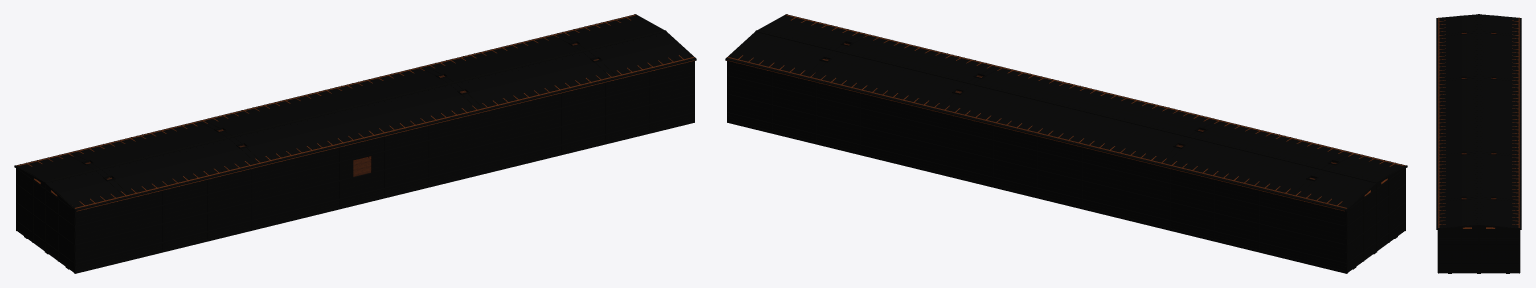
Rendered from ark_base_structure_kit.glb.
The picture shows the model from 3 angles, left to right: view 1: azimuth 30°, elevation 25°; view 2: azimuth 150°, elevation 25°; view 3: azimuth 270°, elevation 25°; orthographic projection. The views are drawn at different scales.
Visible parts, largest first — view 1: ark_hull_wall_bb_LOD0, ark_hull_roof_LOD0, ark_hull_wall_sb_LOD0, ark_hull_zohar_LOD0, ark_hull_keels_LOD0; view 2: ark_hull_wall_sb_LOD0, ark_hull_roof_LOD0, ark_hull_zohar_LOD0, ark_hull_keels_LOD0; view 3: ark_hull_roof_LOD0, ark_hull_wall_sb_LOD0, ark_hull_zohar_LOD0, ark_hull_wall_bb_LOD0, ark_hull_sole_LOD0.
Boxes of the visible parts, left/top/right/bottom form: ark_hull_wall_bb_LOD0: left=74, top=60, right=694, bottom=273; ark_hull_roof_LOD0: left=14, top=14, right=696, bottom=211; ark_hull_wall_sb_LOD0: left=16, top=14, right=694, bottom=273; ark_hull_zohar_LOD0: left=17, top=14, right=694, bottom=208; ark_hull_keels_LOD0: left=24, top=122, right=694, bottom=273; ark_hull_wall_sb_LOD0: left=727, top=14, right=1405, bottom=273; ark_hull_roof_LOD0: left=725, top=14, right=1407, bottom=211; ark_hull_zohar_LOD0: left=727, top=14, right=1404, bottom=208; ark_hull_keels_LOD0: left=727, top=122, right=1397, bottom=273; ark_hull_roof_LOD0: left=1436, top=14, right=1521, bottom=229; ark_hull_wall_sb_LOD0: left=1438, top=17, right=1520, bottom=273; ark_hull_zohar_LOD0: left=1438, top=17, right=1519, bottom=228; ark_hull_wall_bb_LOD0: left=1437, top=230, right=1438, bottom=272; ark_hull_sole_LOD0: left=1439, top=273, right=1518, bottom=273.
Size of what is drawn, in the model's own units: 140 by 15.56 by 23.93.
Materials: 6 (6 with a texture image).
